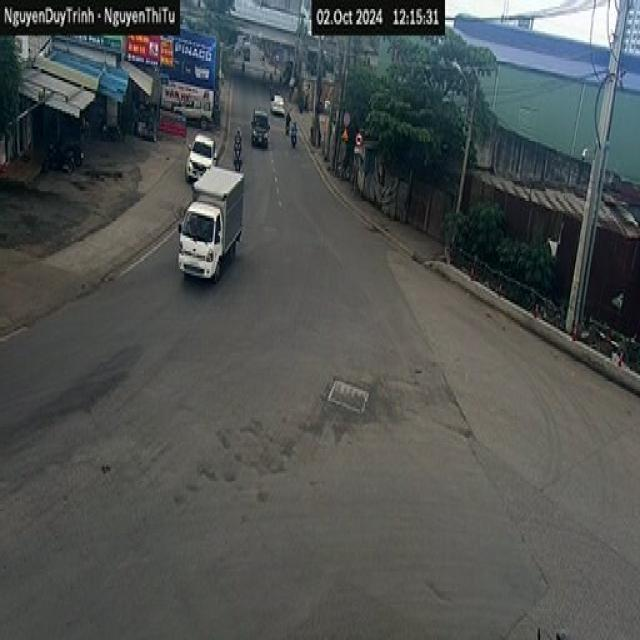car: (185, 131, 217, 182), (250, 106, 270, 146), (270, 94, 284, 115)
person: (232, 125, 242, 171)
truck: (176, 162, 245, 282)
